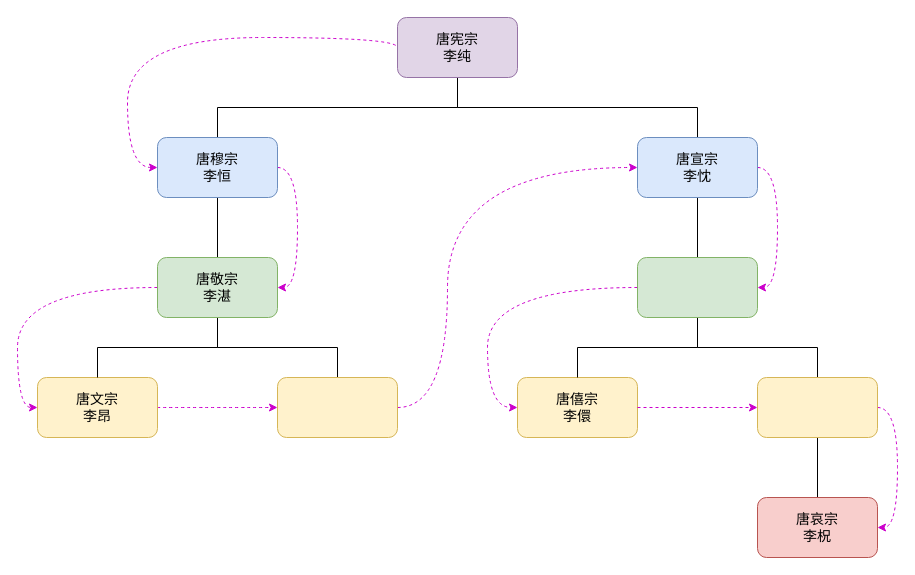
The diagram is 915 pixels wide and 575 high, and some of its shapes have lost their labels. Each missing label, with the centre of its shape:
"唐懿宗 李漼" belongs at pixel 697 287.
"唐昭宗 李晔" belongs at pixel 817 407.
"唐武宗 李炎" belongs at pixel 337 407.
